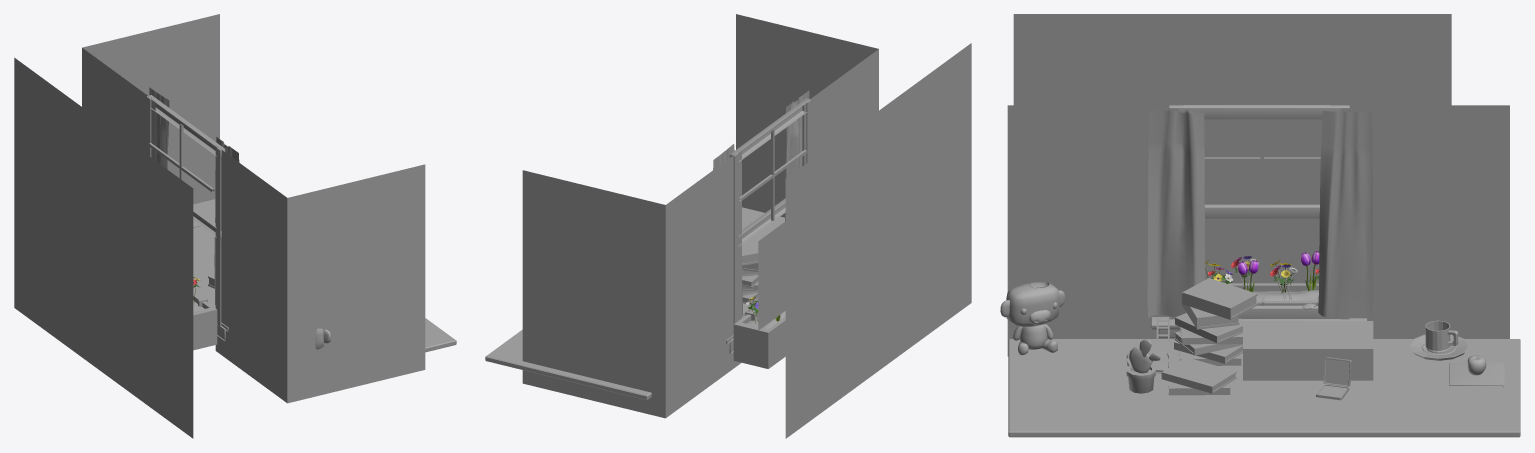
The model's file is Escenario (1).fbx.
3 renders of one model, left to right at view 1: azimuth 30°, elevation 25°; view 2: azimuth 150°, elevation 25°; view 3: azimuth 270°, elevation 25°, orthographic. The views are drawn at different scales.
Parts seen in each view (by area): view 1: Paredes, Cielo, Window_Frame, desk, Maceta_Ventana, Curtain_2; view 2: Paredes, Cielo, Window_Frame, desk, rama_y_pajaro, Maceta_Ventana, Curtain_2, Libros; view 3: Paredes, Cielo, desk, Curtain_2, Libros, pared_chica, Window_Frame, rama_y_pajaro, Peluche, Taza, Maceta_Ventana, Cactus (+2 smaller).
Part boxes in pixels (left/top/right/bottom): Paredes: left=82, top=14, right=425, bottom=403; Cielo: left=14, top=57, right=193, bottom=438; Window_Frame: left=146, top=95, right=228, bottom=340; desk: left=193, top=199, right=456, bottom=352; Maceta_Ventana: left=193, top=292, right=217, bottom=350; Curtain_2: left=149, top=87, right=239, bottom=304; Paredes: left=522, top=14, right=878, bottom=418; Cielo: left=785, top=43, right=971, bottom=438; Window_Frame: left=726, top=98, right=811, bottom=353; desk: left=485, top=207, right=784, bottom=400; rama_y_pajaro: left=758, top=221, right=785, bottom=330; Maceta_Ventana: left=733, top=310, right=785, bottom=368; Curtain_2: left=713, top=90, right=809, bottom=315; Libros: left=742, top=235, right=766, bottom=303; Paredes: left=1007, top=105, right=1509, bottom=356; Cielo: left=1013, top=14, right=1451, bottom=283; desk: left=1008, top=339, right=1520, bottom=437; Curtain_2: left=1147, top=109, right=1372, bottom=318; Libros: left=1161, top=278, right=1257, bottom=395; pared_chica: left=1243, top=321, right=1373, bottom=380; Window_Frame: left=1151, top=105, right=1367, bottom=337; rama_y_pajaro: left=1250, top=166, right=1320, bottom=271; Peluche: left=1000, top=282, right=1065, bottom=355; Taza: left=1408, top=320, right=1469, bottom=360; Maceta_Ventana: left=1228, top=283, right=1318, bottom=305; Cactus: left=1126, top=339, right=1160, bottom=393.
Size of the model in its own units: 418 by 383 by 589.
